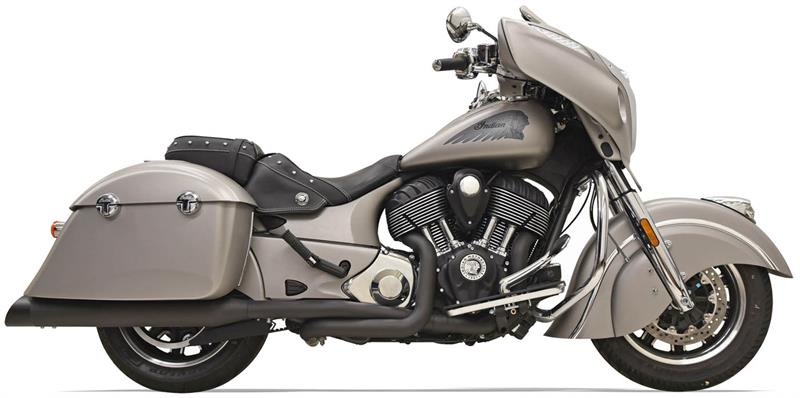Motor Cycle: (6, 23, 789, 376)
